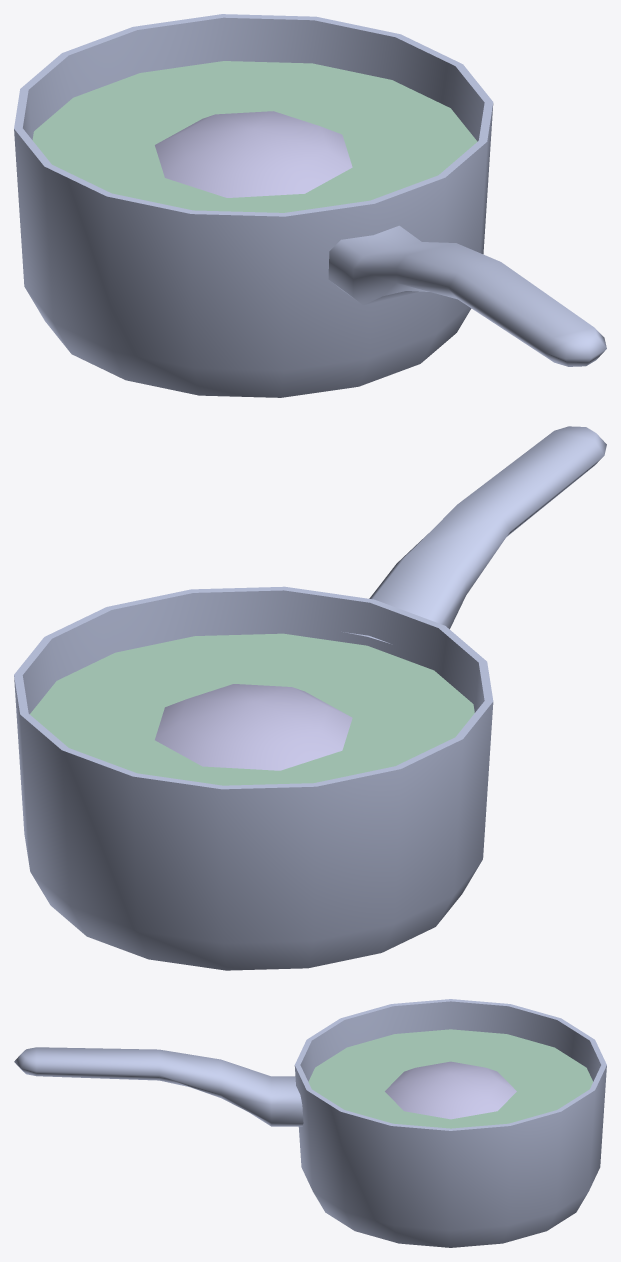
File: cooking_pot_lod1.fbx
The picture shows the model from 3 angles, top to bottom: view 1: azimuth 30°, elevation 25°; view 2: azimuth 150°, elevation 25°; view 3: azimuth 270°, elevation 25°; orthographic projection. The views are drawn at different scales.
Parts seen in each view (by area): view 1: pot_lod1, pot_mix_lod1, pot_soda_lod1; view 2: pot_lod1, pot_mix_lod1, pot_soda_lod1; view 3: pot_lod1, pot_mix_lod1, pot_soda_lod1.
Part boxes in pixels (box(x1,y1,x2,y2)): pot_lod1: box(14, 14, 606, 397); pot_mix_lod1: box(32, 61, 477, 212); pot_soda_lod1: box(155, 111, 352, 197); pot_lod1: box(14, 426, 606, 970); pot_mix_lod1: box(30, 633, 474, 785); pot_soda_lod1: box(155, 684, 352, 770); pot_lod1: box(14, 999, 606, 1247); pot_mix_lod1: box(308, 1029, 592, 1128); pot_soda_lod1: box(385, 1061, 516, 1119).
Size of the model in its own units: 1175 by 569 by 2231.
